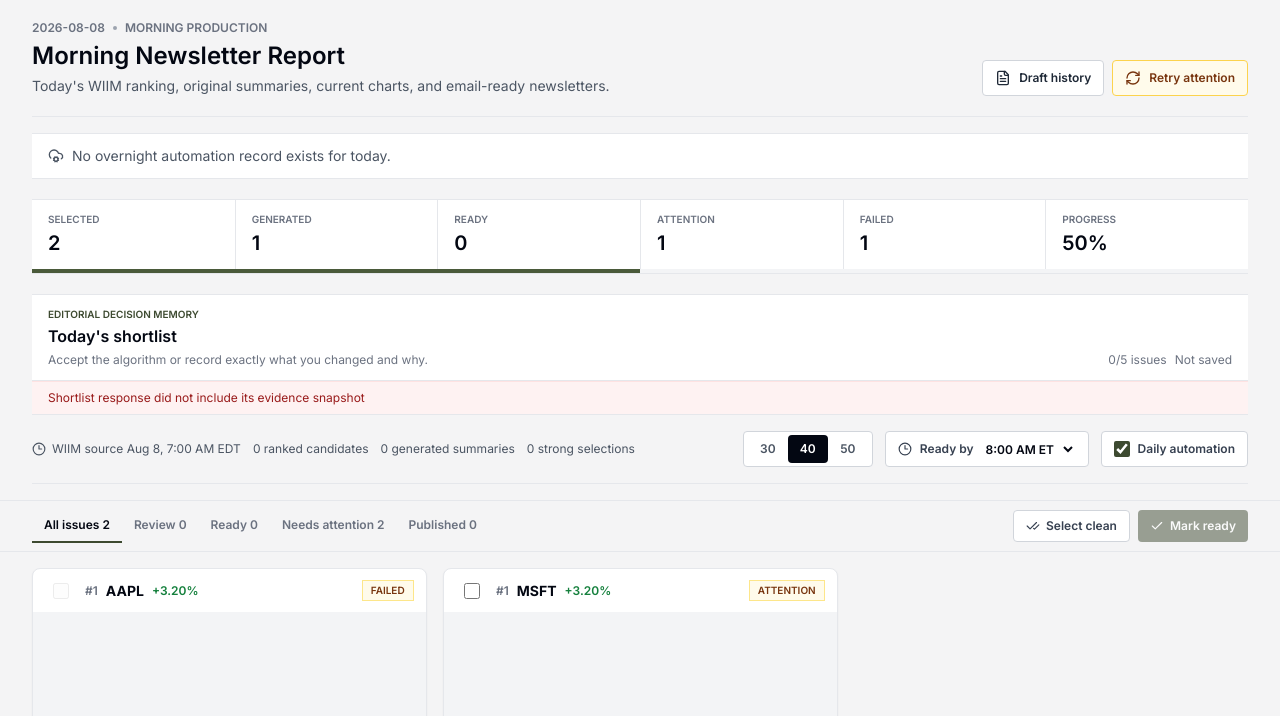
NewsletterMorningReview polling reliability › routes failed and attention items through retry and never announces a false ready state
Click the button "Retry attention" at (1180, 78), box [1112,60,1248,96]
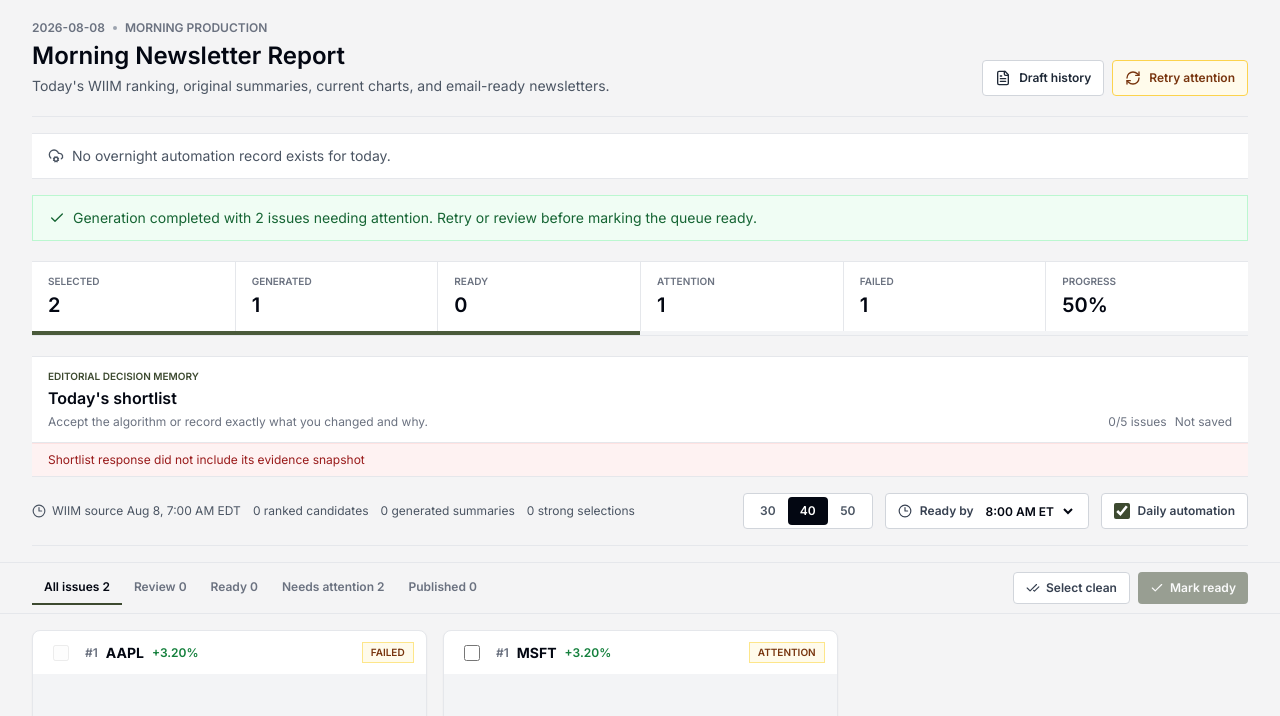
expect the text "Generation completed with 2 issues needing attention. Retry or review before marking the queue ready." is shown: met, box [73,209,757,226]
